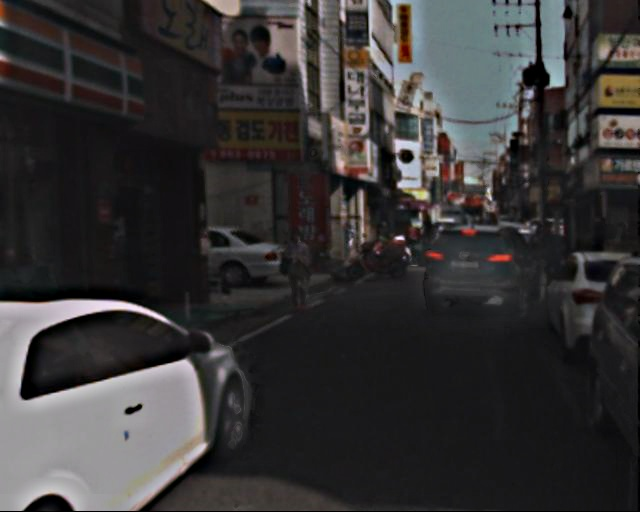person: (536, 222, 571, 308), (285, 231, 319, 313)
